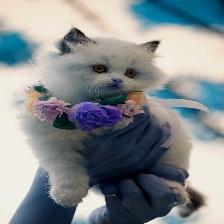kedo: (48, 30, 165, 103)
